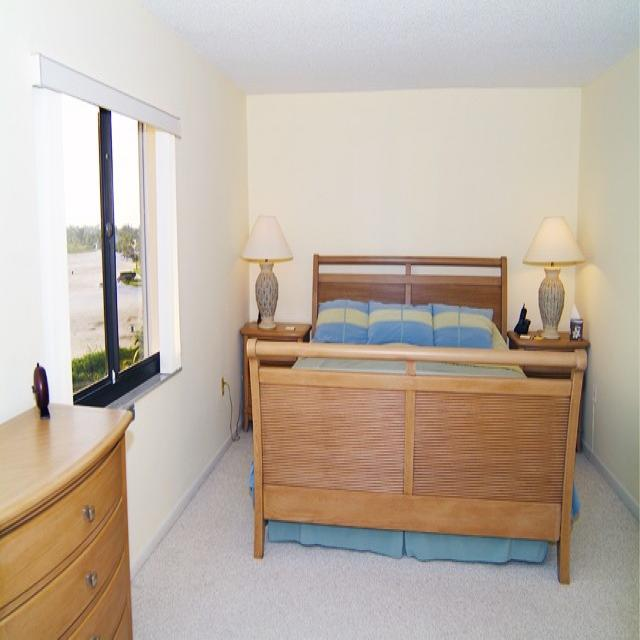2001: (56, 93, 162, 408)
alarm clock: (33, 361, 49, 418)
bedAndFrame: (244, 249, 595, 583)
ceiling beam: (135, 0, 639, 93)
floor -X: (89, 418, 639, 639)
outlet: (220, 375, 224, 396)
pillow occluded: (368, 301, 433, 346), (433, 298, 493, 345), (313, 298, 366, 342)
table leg: (237, 205, 297, 325), (523, 216, 583, 334)
wall clock: (1, 0, 248, 639), (246, 85, 580, 435), (569, 43, 638, 520)
